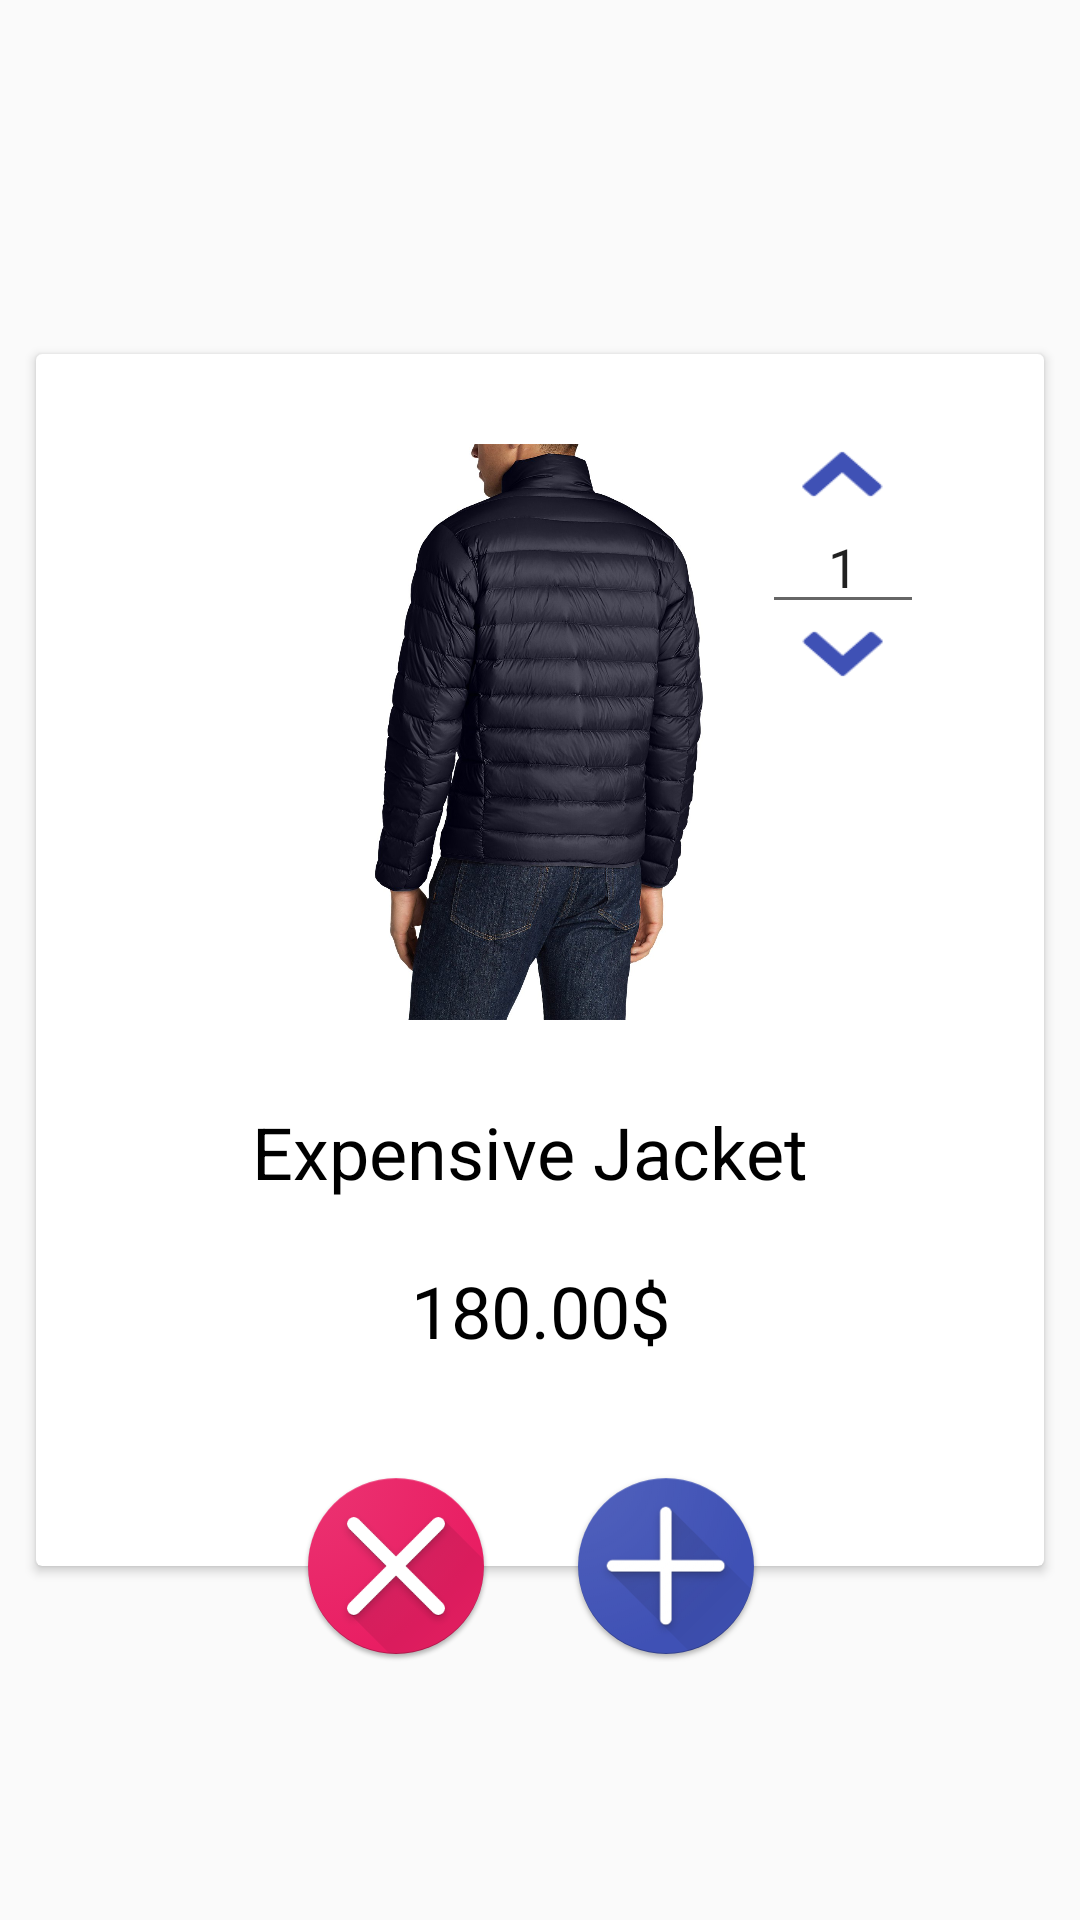

Point at icon controls on the screen. Image size 1080×1920, points as point (x, y).
search add: point (666, 1568)
search cancel: point (396, 1568)
